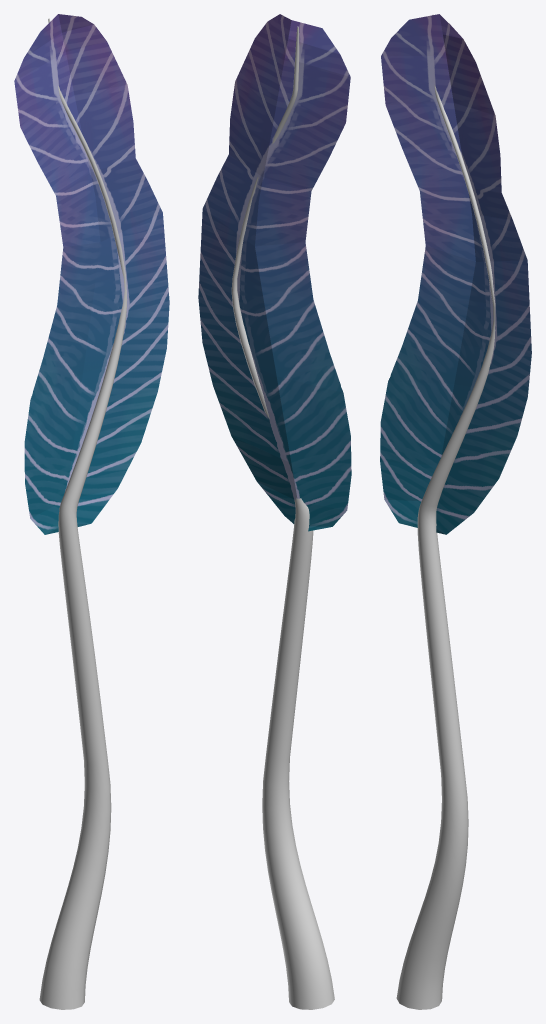
The model's file is tige1.fbx.
3 views of the same model, side by side, from view 1: azimuth 30°, elevation 25°; view 2: azimuth 150°, elevation 25°; view 3: azimuth 330°, elevation 25° (orthographic).
Parts seen in each view (by area): view 1: Plane.097, BezierCurve.025; view 2: Plane.097, BezierCurve.025; view 3: Plane.097, BezierCurve.025.
Part boxes in pixels (x1,y1,x2,y2): Plane.097: (14, 14, 169, 534); BezierCurve.025: (39, 18, 127, 1009); Plane.097: (198, 14, 351, 531); BezierCurve.025: (231, 26, 334, 1009); Plane.097: (380, 14, 531, 534); BezierCurve.025: (396, 14, 495, 1009).
Size of the model in its own units: 119 by 725 by 33.91.
1 material, 1 textured.
